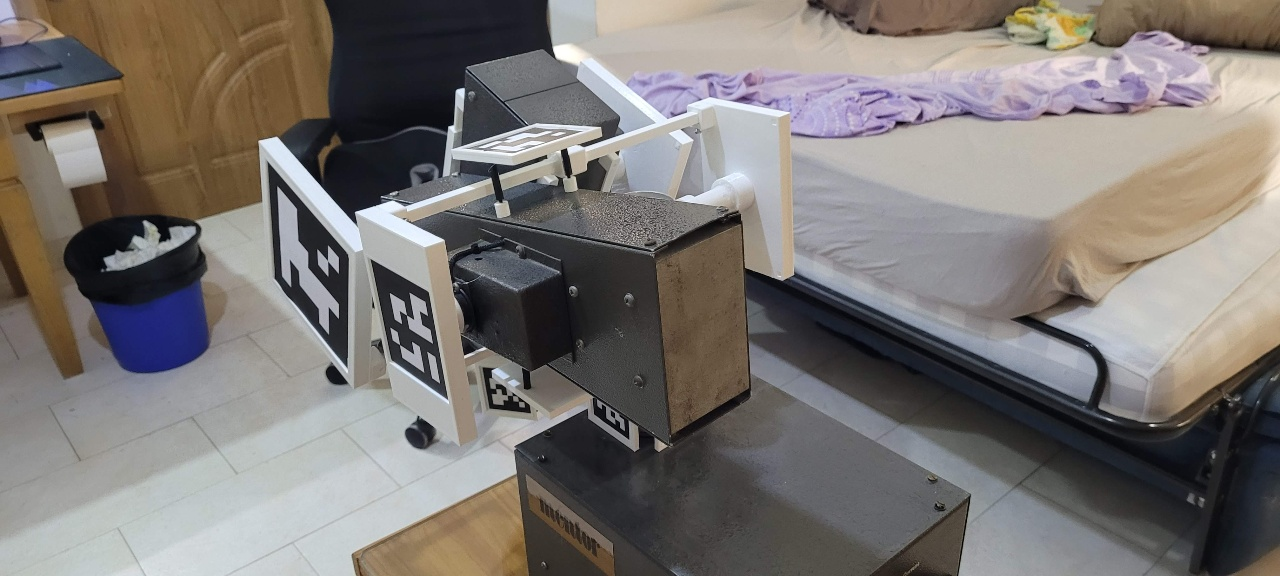Robot: (256, 46, 798, 457)
